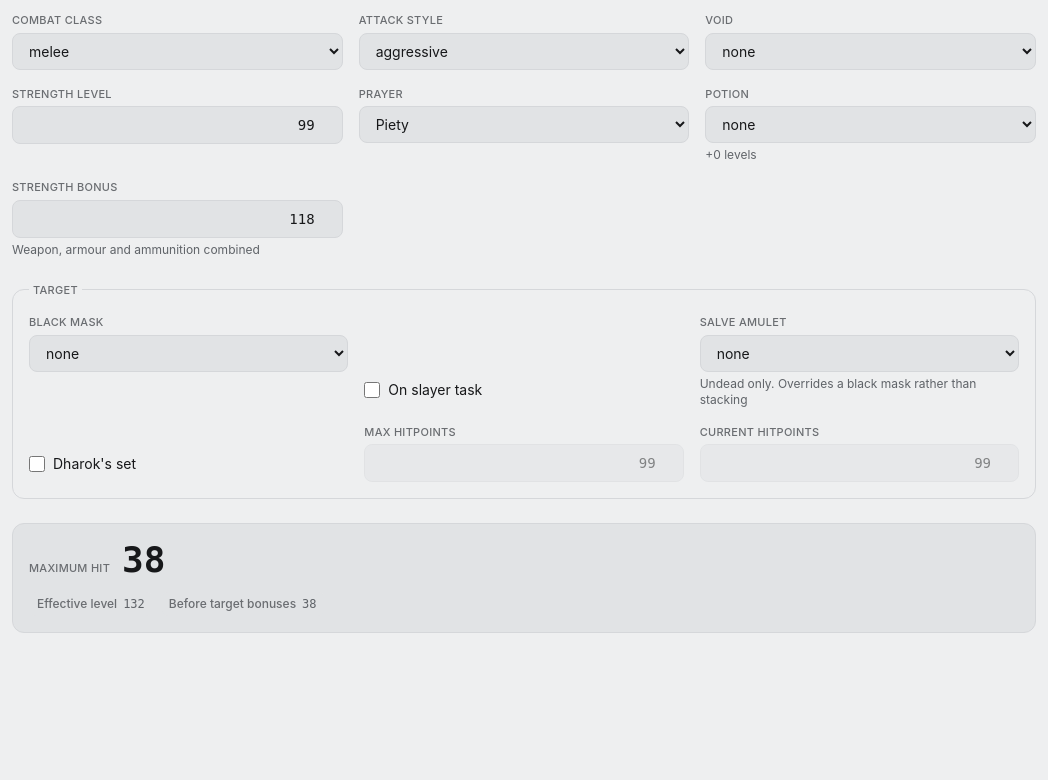
Test: MaxHitCalculator › offers a spell and staff picker for magic, and no strength bonus field
Select "magic" in the dropdown labelled "Combat class" at [177, 51], box [12,32,343,70]
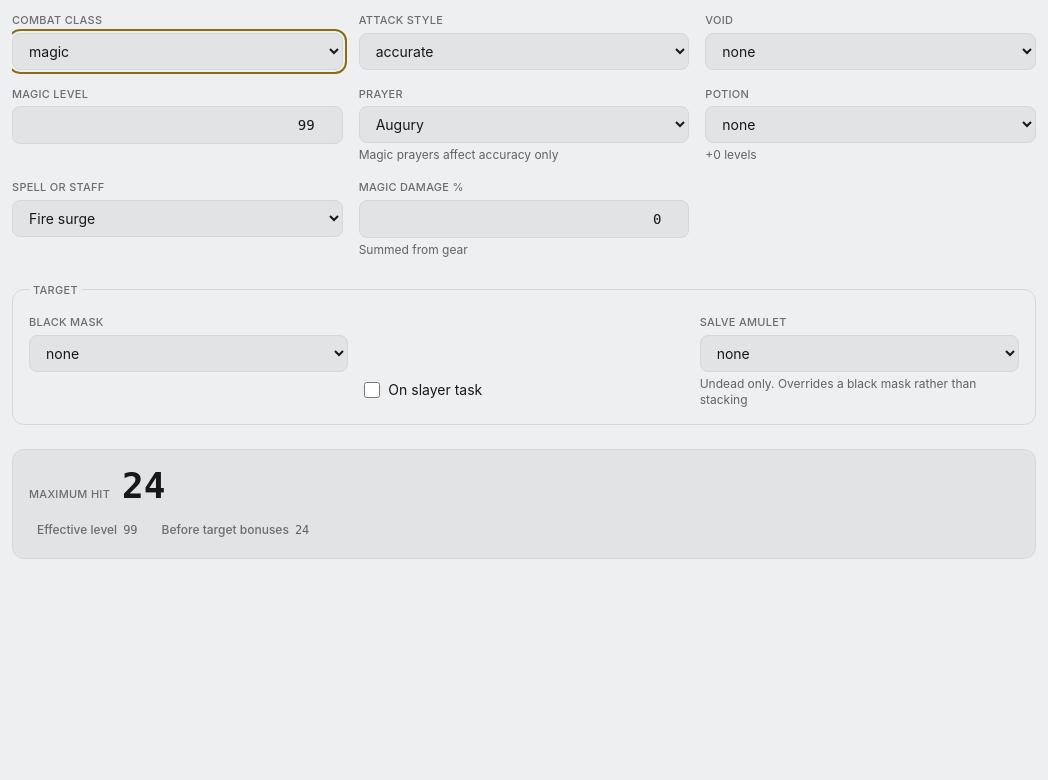
Now the dropdown labelled "Spell or staff" is shown, box [12,200,343,236]
Now the label "Strength bonus" is gone
